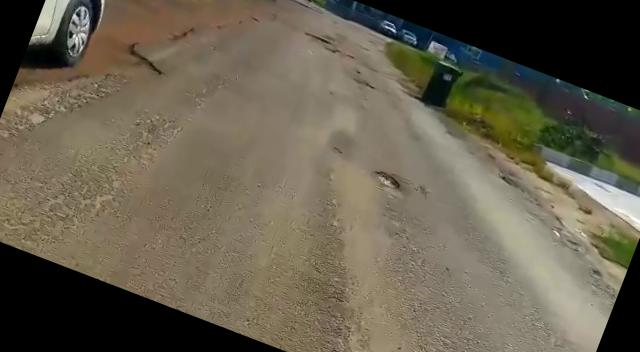pothole: (366, 166, 410, 198)
